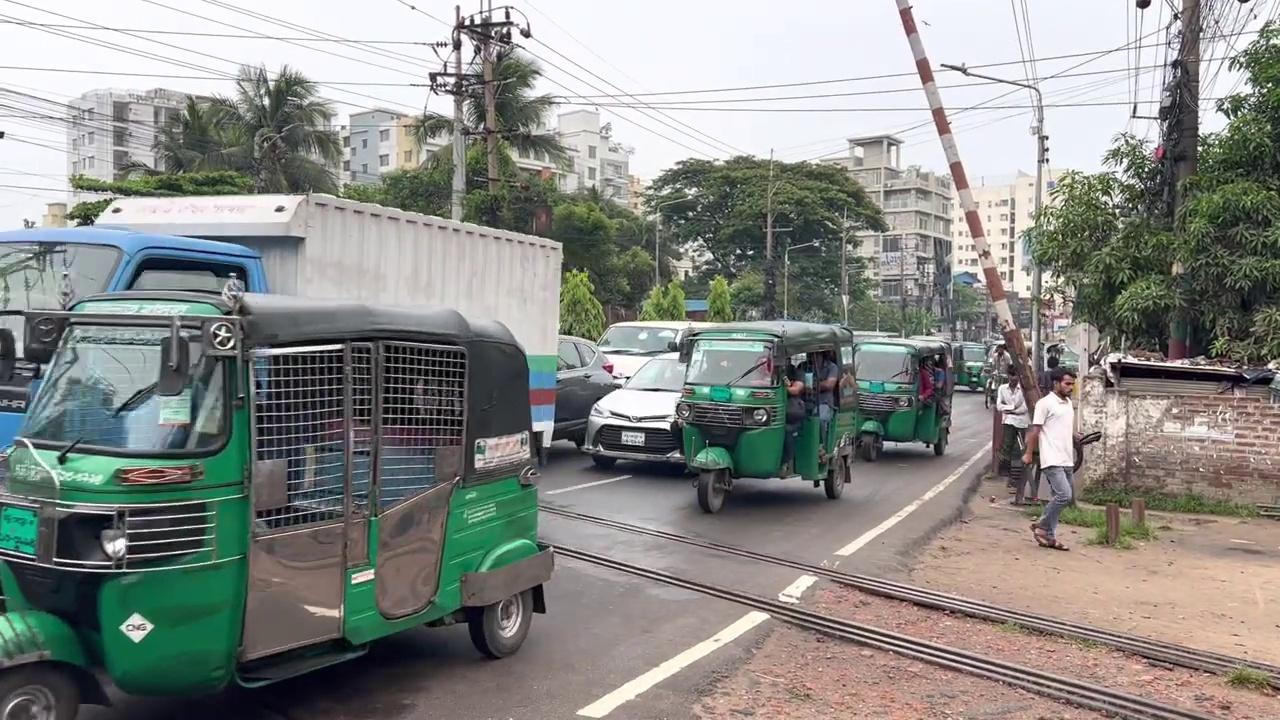Bench: (668, 318, 860, 513)
Fence: (1021, 365, 1080, 550)
Garbage: (895, 0, 1043, 412), (449, 4, 466, 220)
Motorcycle: (535, 497, 1278, 718)
Railroad-crossing: (639, 150, 890, 321), (403, 41, 575, 225), (148, 60, 345, 196)
Rickshaw: (0, 278, 555, 717)
